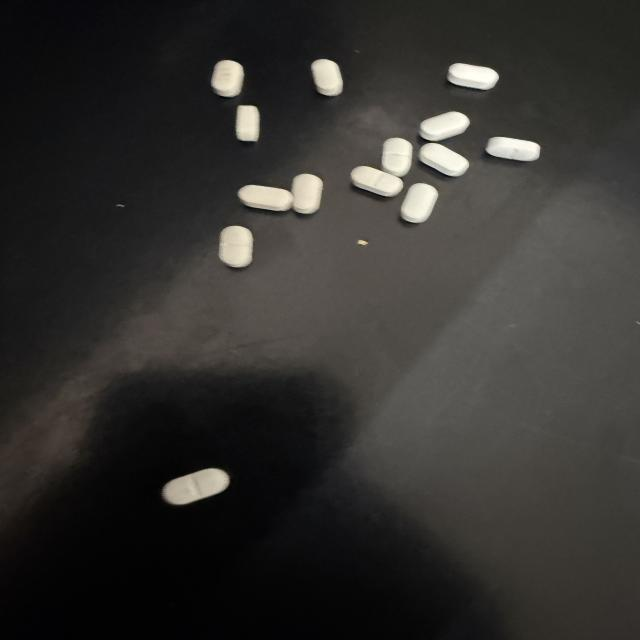pill: (162, 469, 229, 505), (420, 143, 468, 176), (351, 166, 403, 196), (401, 184, 438, 223), (238, 185, 293, 211), (219, 226, 253, 267), (421, 112, 469, 141), (486, 137, 540, 161), (448, 64, 498, 89), (211, 60, 244, 97), (311, 59, 343, 96), (382, 138, 412, 177), (292, 174, 322, 213), (236, 106, 259, 141)
